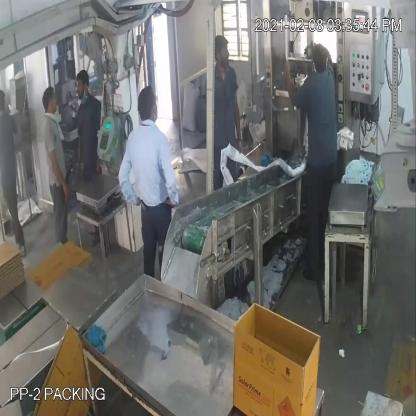no_glove: (225, 82, 249, 165), (45, 139, 72, 206), (161, 140, 179, 217), (119, 152, 141, 210), (277, 56, 300, 110)
